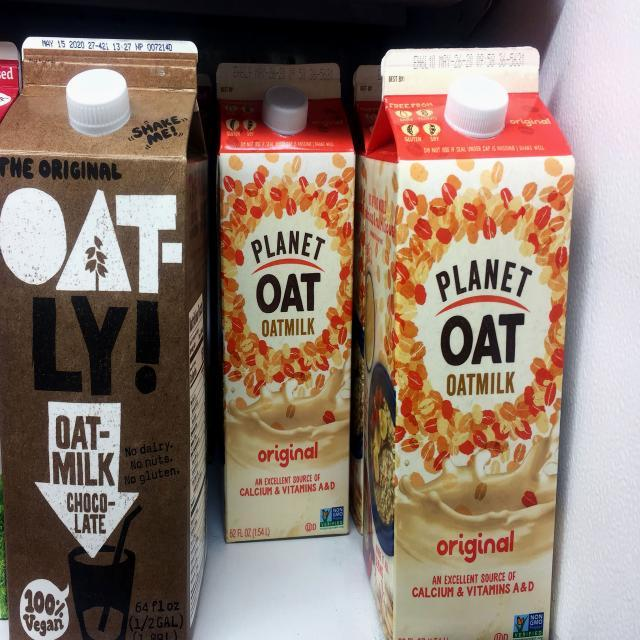Planet Oat Original: (362, 30, 581, 640), (210, 55, 358, 547)
